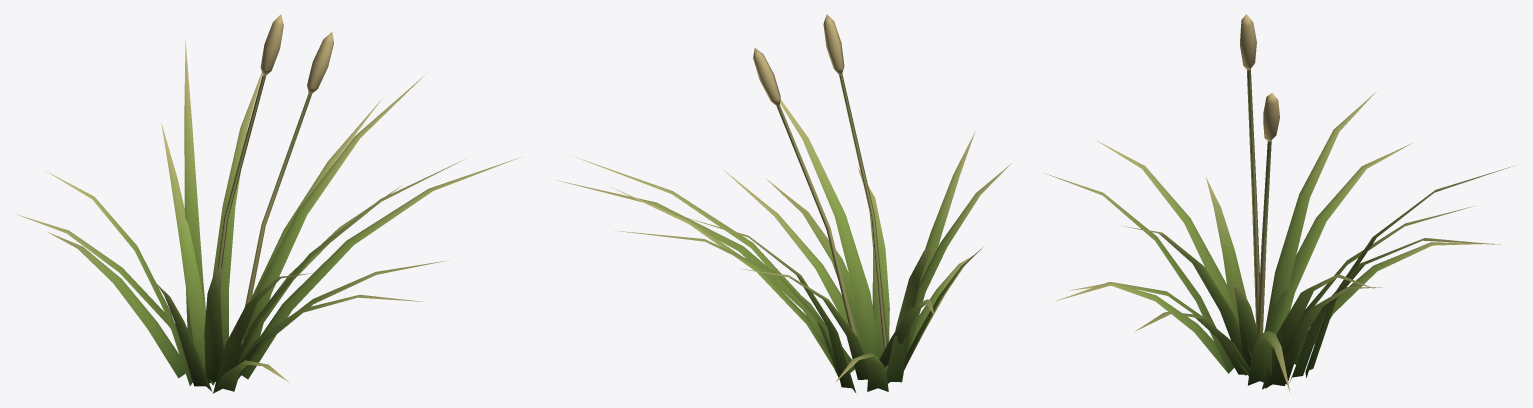
The model's file is beach_grass.glb.
The picture shows the model from 3 angles, left to right: view 1: azimuth 30°, elevation 25°; view 2: azimuth 150°, elevation 25°; view 3: azimuth 270°, elevation 25°; orthographic projection. The views are drawn at different scales.
Visible parts, largest first — view 1: beach_grass; view 2: beach_grass; view 3: beach_grass.
Boxes of the visible parts, box(x1,y1,x2,y2) form: beach_grass: box(16, 14, 520, 393); beach_grass: box(557, 14, 1011, 393); beach_grass: box(1044, 14, 1514, 392).
Bounding box in the file's own units: 0.9744 × 0.7366 × 0.8191.
